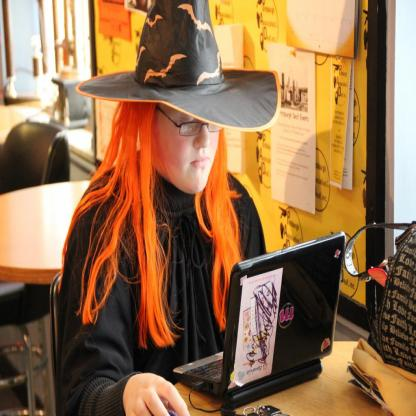board: (173, 231, 343, 408)
